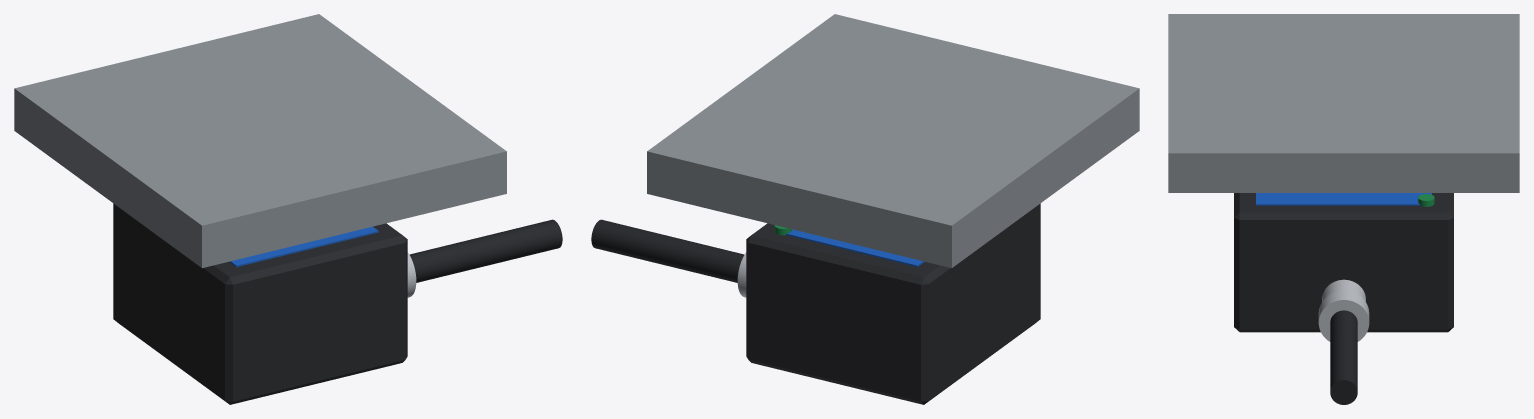
File: rfid_head.glb
The picture shows the model from 3 angles, left to right: view 1: azimuth 30°, elevation 25°; view 2: azimuth 150°, elevation 25°; view 3: azimuth 270°, elevation 25°; orthographic projection. The views are drawn at different scales.
Parts seen in each view (by area): view 1: mould_base, housing, cable, sensing_face; view 2: mould_base, housing, cable, sensing_face; view 3: mould_base, housing, cable, sensing_face, connector_m8.
Part boxes in pixels (x1,y1,x2,y2): mould_base: [14, 14, 506, 268]; housing: [113, 203, 407, 404]; cable: [409, 219, 562, 282]; sensing_face: [229, 226, 378, 267]; mould_base: [647, 14, 1139, 268]; housing: [746, 203, 1040, 404]; cable: [591, 219, 744, 282]; sensing_face: [786, 229, 924, 267]; mould_base: [1168, 14, 1519, 192]; housing: [1234, 193, 1453, 332]; cable: [1330, 310, 1357, 404]; sensing_face: [1256, 193, 1431, 205]; connector_m8: [1318, 279, 1369, 341].
Bounding box in the file's own units: 0.088 × 0.042 × 0.064.
